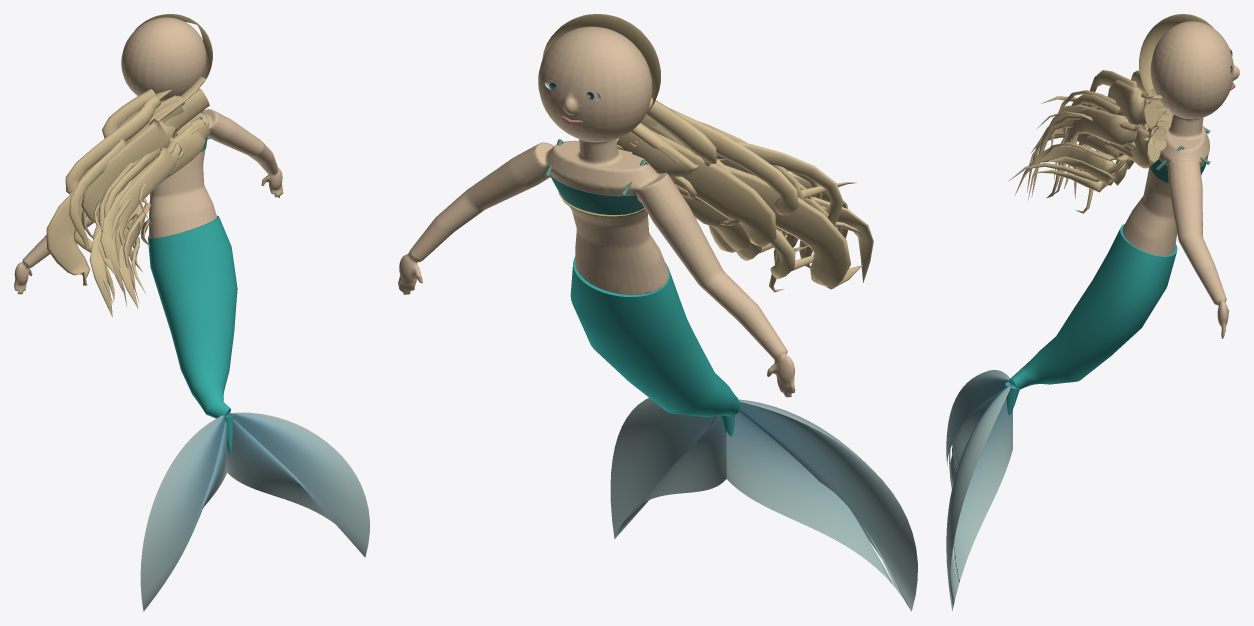
Rendered from mermaid-finished.glb.
3 renders of one model, left to right at view 1: azimuth 30°, elevation 25°; view 2: azimuth 150°, elevation 25°; view 3: azimuth 270°, elevation 25°, orthographic. The views are drawn at different scales.
Parts seen in each view (by area): view 1: Mermaid; view 2: Mermaid; view 3: Mermaid.
Boxes of the visible parts, <box> form: Mermaid: <box>14,14,369,611</box>; Mermaid: <box>398,14,917,611</box>; Mermaid: <box>946,14,1239,610</box>.
Bounding box in the file's own units: 3.03 × 4.91 × 2.41.
